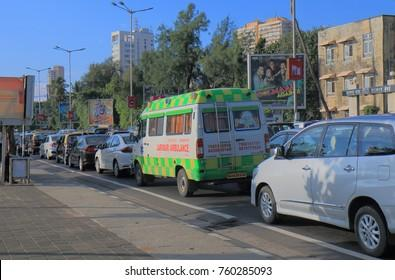ER: (132, 88, 273, 198)
